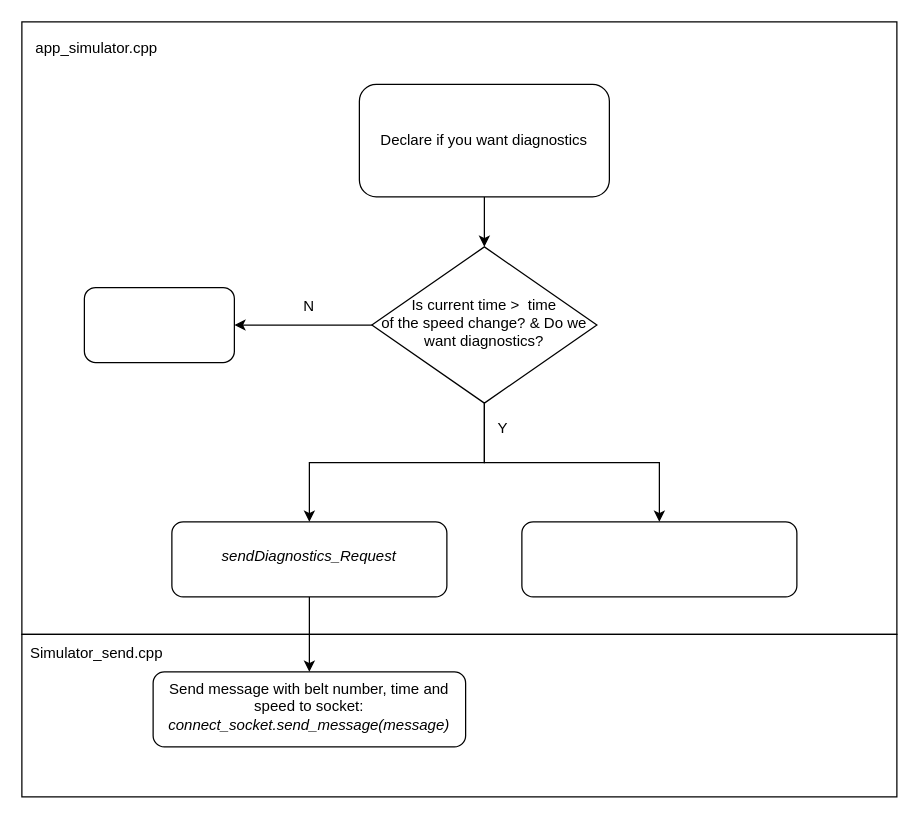
This 919x819 diagram has some shape labels left out. Each missing label, with the centre of its shape:
"No speed change" belongs at (x=158, y=324).
"sendProcessParameterUpdate" belongs at (x=659, y=559).
